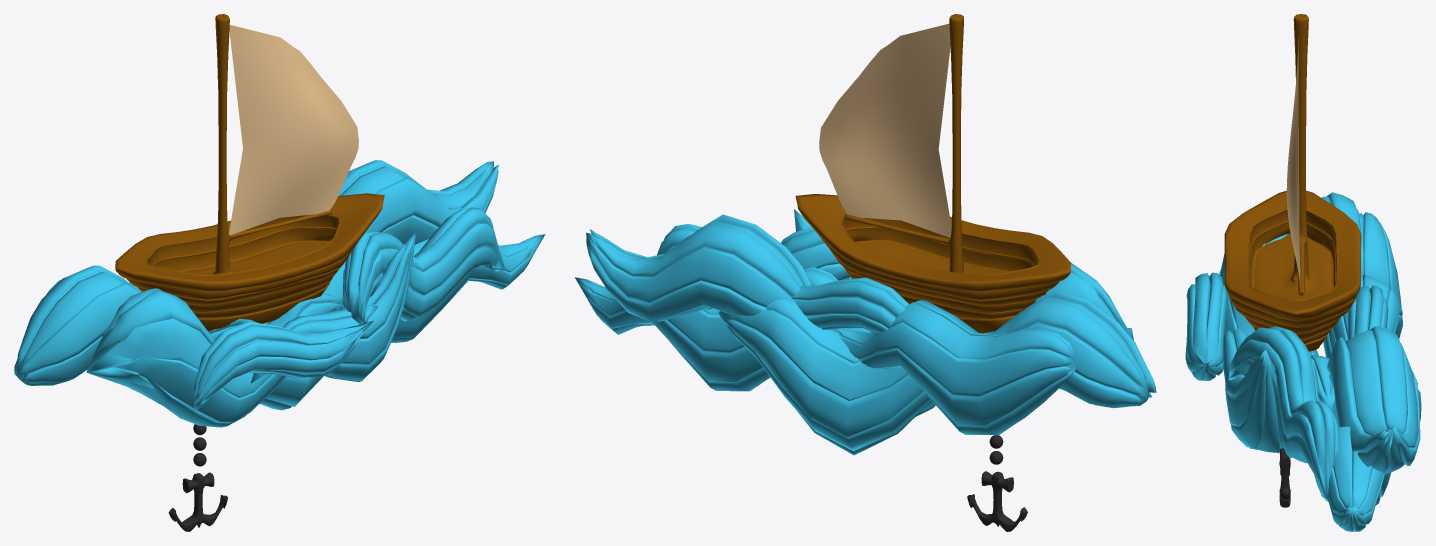
The model's file is renata-obarco.obj.
The picture shows the model from 3 angles, left to right: view 1: azimuth 30°, elevation 25°; view 2: azimuth 150°, elevation 25°; view 3: azimuth 270°, elevation 25°; orthographic projection. The views are drawn at different scales.
Parts seen in each view (by area): view 1: polySurface12, pPlane1, pCylinder7, pCylinder3, pCylinder9, pCylinder1, pCylinder4, pCylinder2, pCylinder5, pCylinder8, pCube4; view 2: polySurface12, pPlane1, pCylinder10, pCylinder6, pCylinder4, pCylinder9, pCylinder5, pCylinder11, pCylinder3, pCylinder7, pCube4; view 3: polySurface12, pCylinder4, pCylinder3, pCylinder2, pCylinder5, pCylinder1, pCylinder10, pPlane1, pCylinder11, pCylinder8, pCylinder7, pCylinder9 (+1 smaller).
Part boxes in pixels (x1=…): polySurface12: x1=115, y1=14, x2=384, y2=331; pPlane1: x1=229, y1=25, x2=358, y2=235; pCylinder7: x1=86, y1=288, x2=342, y2=427; pCylinder3: x1=341, y1=207, x2=505, y2=324; pCylinder9: x1=14, y1=265, x2=140, y2=385; pCylinder1: x1=194, y1=320, x2=373, y2=410; pCylinder4: x1=338, y1=160, x2=498, y2=245; pCylinder2: x1=250, y1=230, x2=416, y2=383; pCylinder5: x1=391, y1=234, x2=545, y2=342; pCylinder8: x1=208, y1=261, x2=345, y2=410; pCube4: x1=168, y1=472, x2=227, y2=531; polySurface12: x1=795, y1=14, x2=1071, y2=333; pPlane1: x1=819, y1=23, x2=951, y2=237; pCylinder10: x1=834, y1=300, x2=1076, y2=435; pCylinder6: x1=718, y1=298, x2=931, y2=455; pCylinder4: x1=586, y1=214, x2=811, y2=322; pCylinder9: x1=979, y1=290, x2=1156, y2=408; pCylinder5: x1=574, y1=277, x2=770, y2=391; pCylinder11: x1=791, y1=277, x2=909, y2=333; pCylinder3: x1=657, y1=224, x2=851, y2=280; pCylinder7: x1=1035, y1=263, x2=1133, y2=340; pCube4: x1=967, y1=471, x2=1027, y2=531; polySurface12: x1=1224, y1=14, x2=1360, y2=351; pCylinder4: x1=1327, y1=326, x2=1420, y2=473; pCylinder3: x1=1228, y1=326, x2=1339, y2=498; pCylinder2: x1=1223, y1=329, x2=1283, y2=452; pCylinder5: x1=1314, y1=402, x2=1391, y2=531; pCylinder1: x1=1185, y1=272, x2=1227, y2=380; pCylinder10: x1=1331, y1=212, x2=1402, y2=343; pPlane1: x1=1286, y1=38, x2=1300, y2=288; pCylinder11: x1=1347, y1=285, x2=1388, y2=339; pCylinder8: x1=1254, y1=329, x2=1335, y2=410; pCylinder7: x1=1219, y1=234, x2=1288, y2=334; pCylinder9: x1=1321, y1=192, x2=1363, y2=249.
Size of the model in its own units: 34.98 by 30.3 by 12.91.
